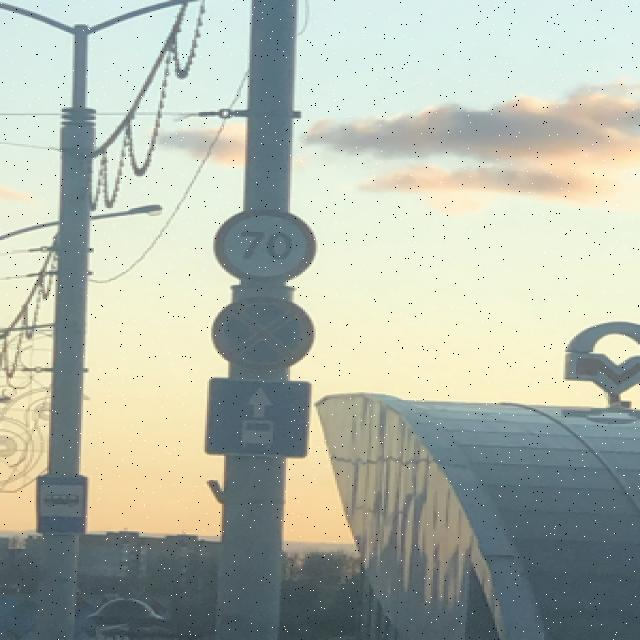Speedlimit: (210, 202, 322, 282)
